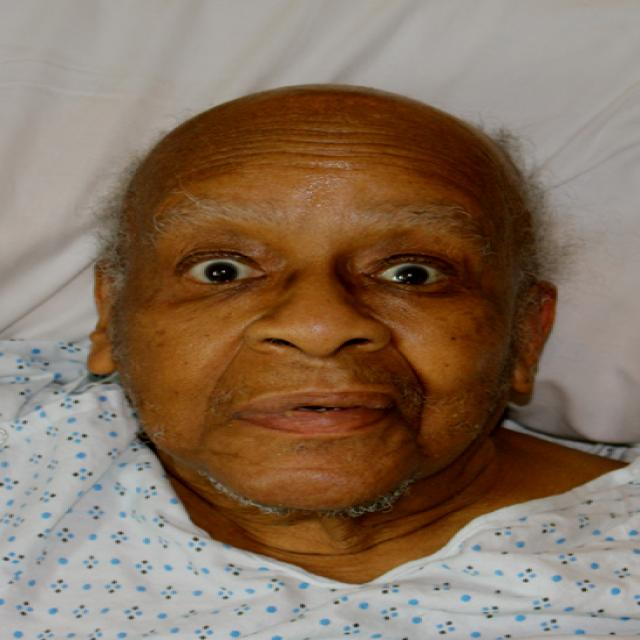stroke_face: (116, 122, 510, 524)
